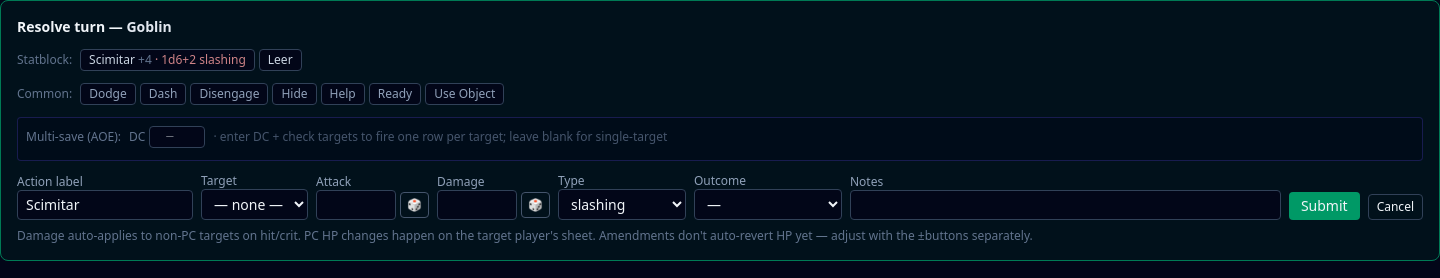
Test: ResolvePanel roll arming › clicking a common action disarms the statblock rolls
Click the button "Dodge" at (108, 94), box x1=80 y1=83 x2=136 y2=105
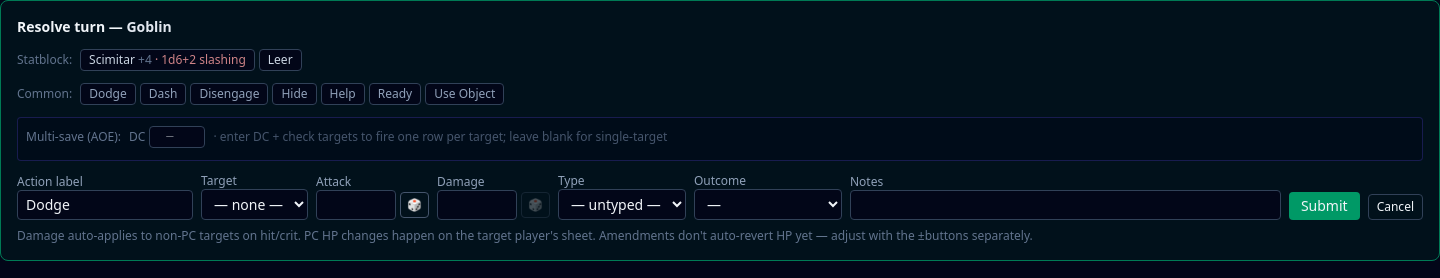
Expected: the 2nd button titled "Pick a statblock action to roll its damage" is disabled, x1=521 y1=192 x2=550 y2=218
